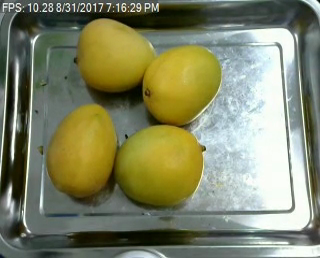Mango: (115, 123, 204, 206), (46, 105, 117, 198), (140, 46, 222, 123), (76, 17, 155, 91)
